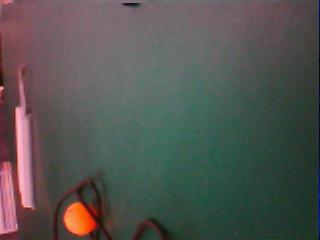oball: (63, 201, 96, 235)
